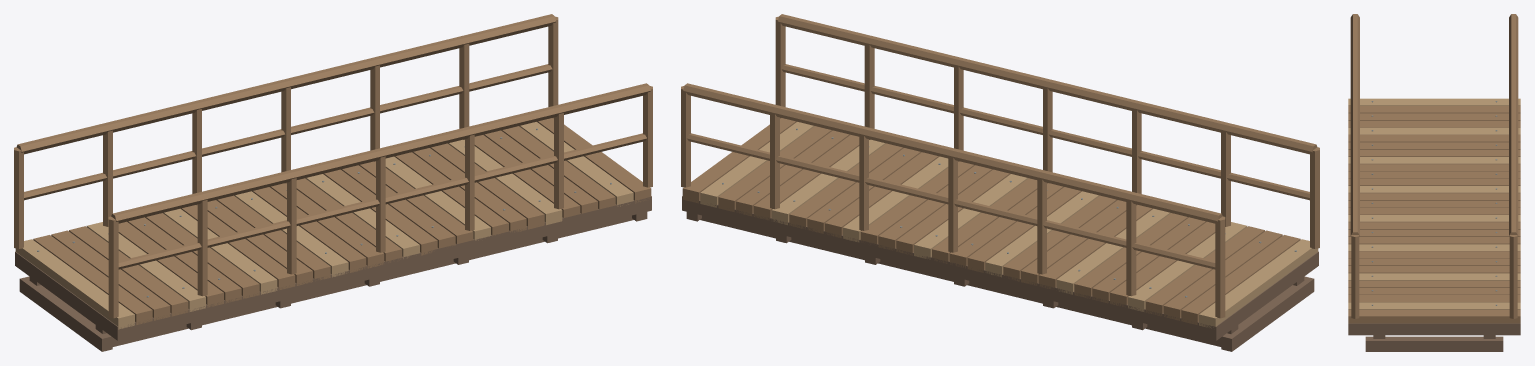
File: Bridge_Rustic_Complete_6m.fbx
3 views of the same model, side by side, from view 1: azimuth 30°, elevation 25°; view 2: azimuth 150°, elevation 25°; view 3: azimuth 270°, elevation 25° (orthographic). The views are drawn at different scales.
Visible parts, largest first — view 1: Bridge_Rustic_Complete_6m; view 2: Bridge_Rustic_Complete_6m; view 3: Bridge_Rustic_Complete_6m.
Part boxes in pixels (<box>): Bridge_Rustic_Complete_6m: <box>14,14,652,351</box>; Bridge_Rustic_Complete_6m: <box>681,14,1319,351</box>; Bridge_Rustic_Complete_6m: <box>1348,14,1520,351</box>.
Bounding box in the file's own units: 612 × 153 × 200.
